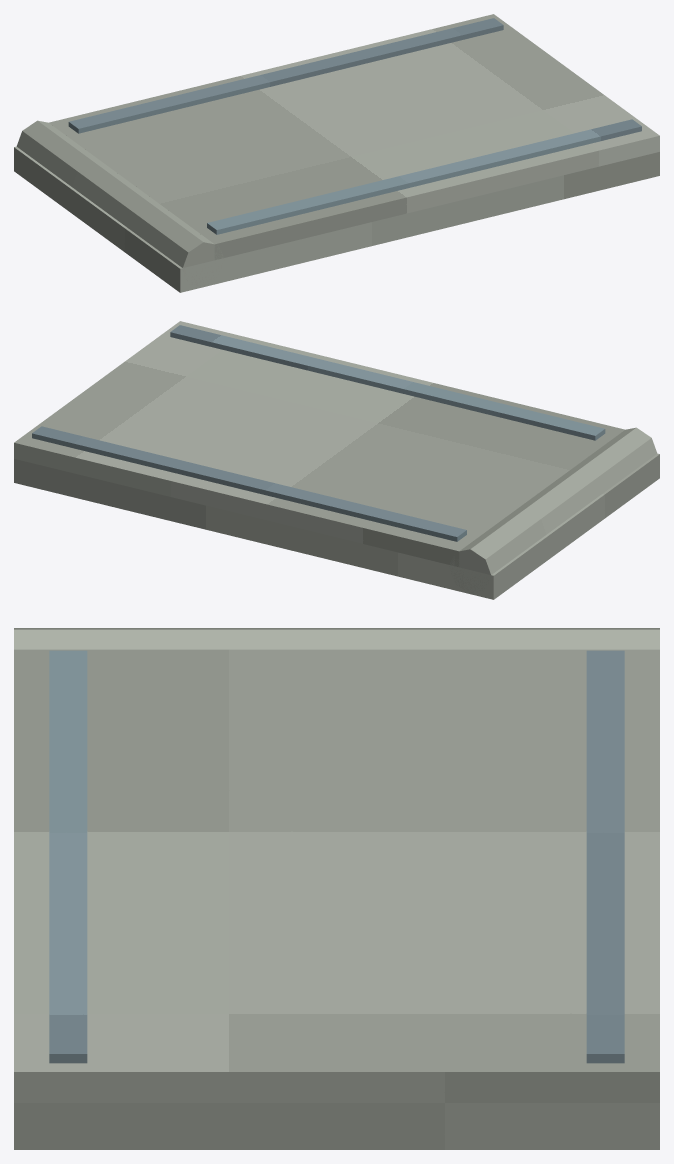
File: towel.glb
3 renders of one model, top to bottom at view 1: azimuth 30°, elevation 25°; view 2: azimuth 150°, elevation 25°; view 3: azimuth 270°, elevation 25°, orthographic. The views are drawn at different scales.
Parts seen in each view (by area): view 1: towel/upper-fold, towel/lower-fold, towel/folded-edge, towel/woven-border-1, towel/woven-border--1; view 2: towel/upper-fold, towel/lower-fold, towel/folded-edge, towel/woven-border--1, towel/woven-border-1; view 3: towel/upper-fold, towel/lower-fold, towel/woven-border--1, towel/woven-border-1, towel/folded-edge.
Part boxes in pixels (left/top/right/bottom): towel/upper-fold: left=49, top=14, right=659, bottom=260; towel/lower-fold: left=14, top=146, right=659, bottom=292; towel/folded-edge: left=16, top=120, right=224, bottom=286; towel/woven-border-1: left=68, top=18, right=503, bottom=133; towel/woven-border--1: left=207, top=119, right=641, bottom=234; towel/upper-fold: left=14, top=321, right=624, bottom=566; towel/lower-fold: left=14, top=453, right=659, bottom=599; towel/folded-edge: left=449, top=427, right=657, bottom=593; towel/woven-border--1: left=170, top=325, right=605, bottom=440; towel/woven-border-1: left=32, top=426, right=466, bottom=541; towel/upper-fold: left=14, top=649, right=659, bottom=1102; towel/lower-fold: left=14, top=1103, right=659, bottom=1149; towel/woven-border--1: left=49, top=650, right=87, bottom=1063; towel/woven-border-1: left=586, top=650, right=624, bottom=1063; towel/folded-edge: left=14, top=628, right=659, bottom=649.
Bounding box in the file's own units: 0.3125 × 0.028 × 0.1875.
2 materials, 2 textured.
